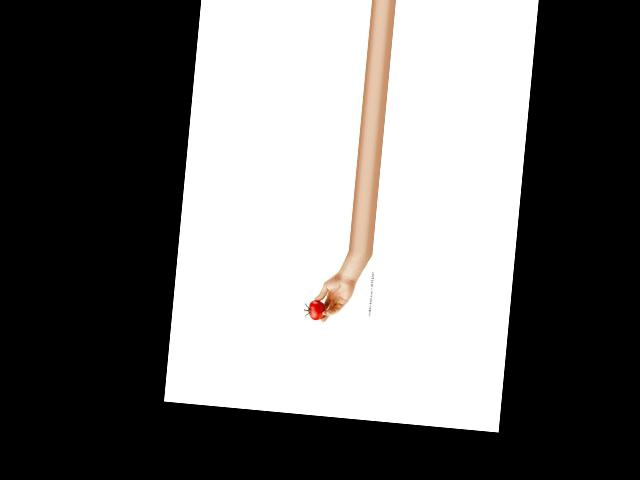tomato: (308, 299, 327, 320)
